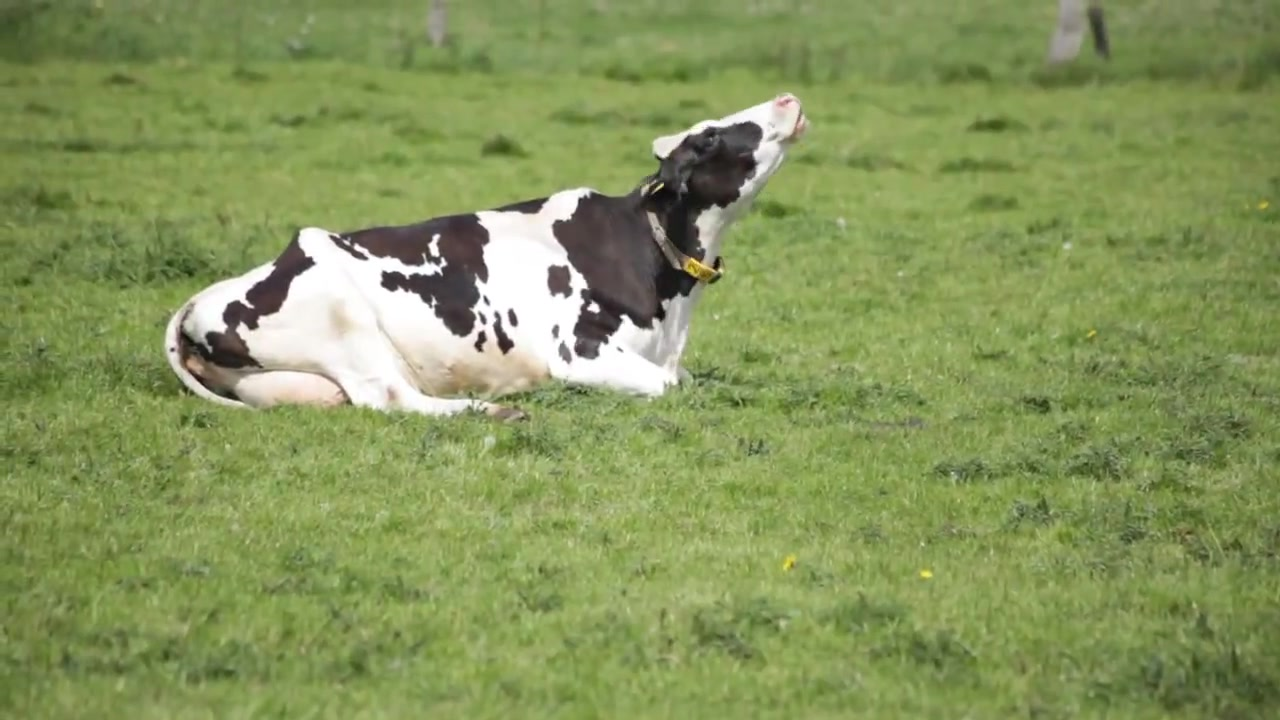cow: (162, 88, 819, 415)
